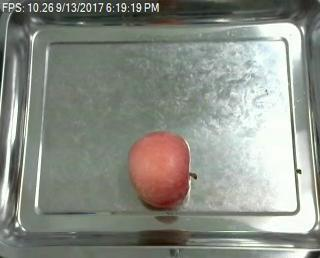apple: (126, 130, 198, 209)
